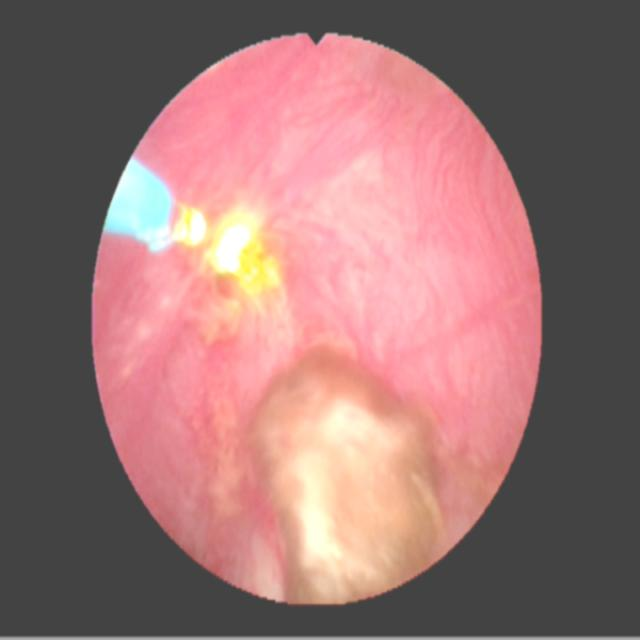fiber: (107, 159, 170, 231)
stone: (249, 349, 446, 593)
tissue: (98, 40, 537, 588)
